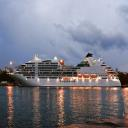cruises: (8, 50, 125, 91)
